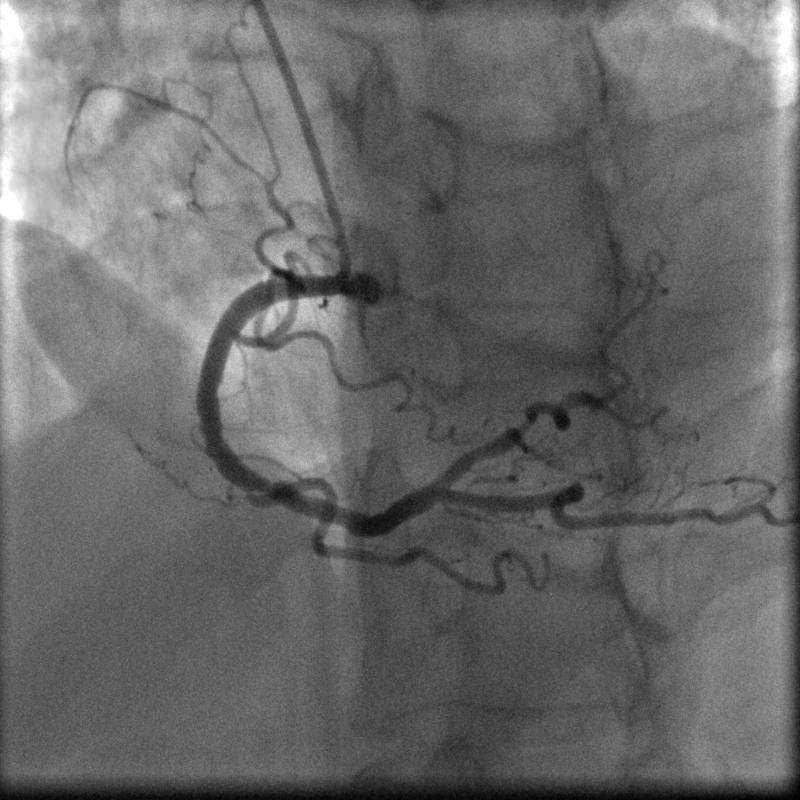Stenosis: (505, 406, 534, 445)
